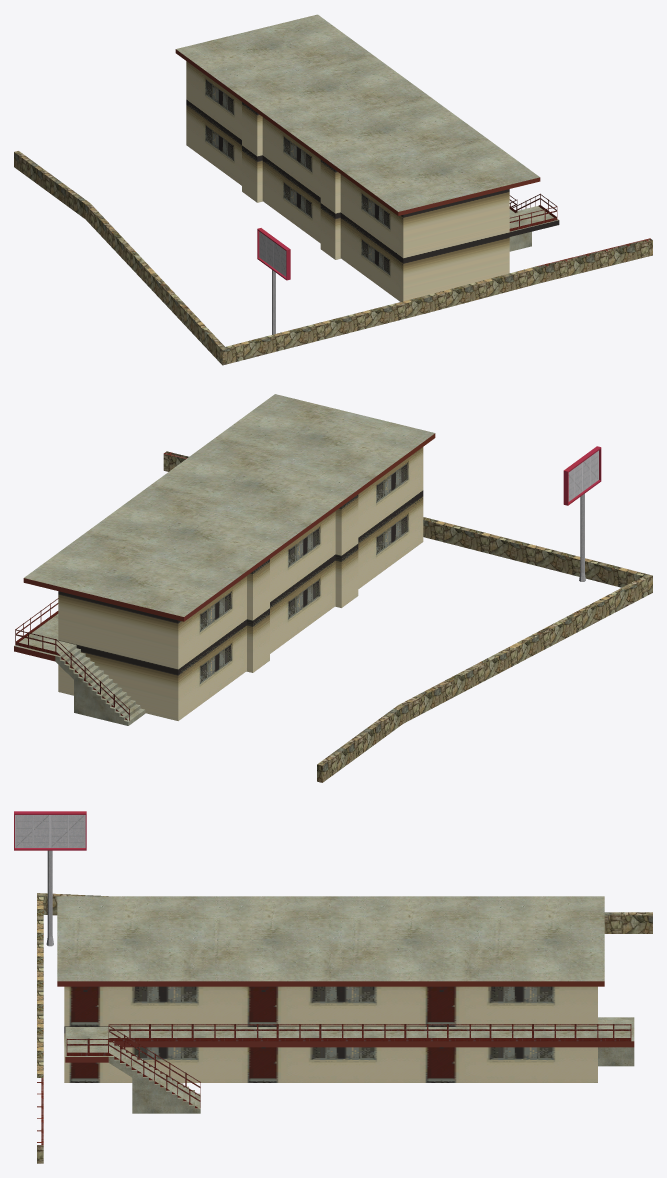
File: cn2_rosmot1.obj
The picture shows the model from 3 angles, top to bottom: view 1: azimuth 30°, elevation 25°; view 2: azimuth 150°, elevation 25°; view 3: azimuth 270°, elevation 25°; orthographic projection. The views are drawn at different scales.
Visible parts, largest first — view 1: cn2_rosmot1; view 2: cn2_rosmot1; view 3: cn2_rosmot1.
Boxes of the visible parts, <box> form: cn2_rosmot1: <box>14,14,652,365</box>; cn2_rosmot1: <box>14,394,652,782</box>; cn2_rosmot1: <box>14,811,652,1163</box>.
Bounding box in the file's own units: 31.87 × 7.68 × 33.32.
Materials: 8 (8 with a texture image).
